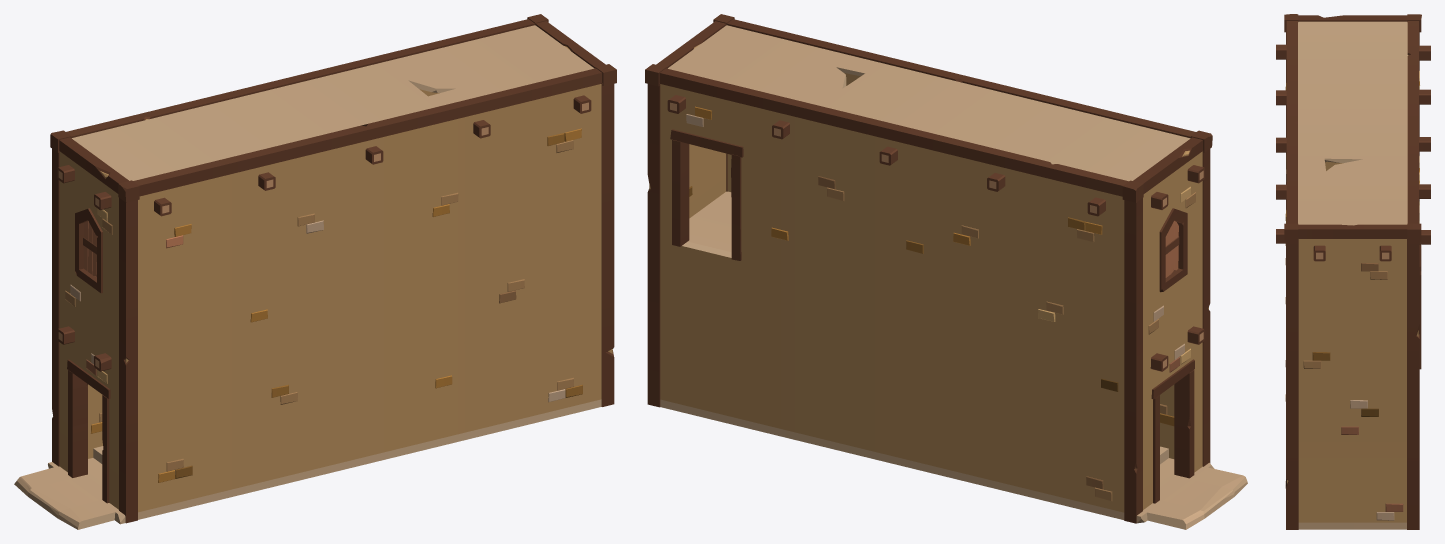
The model's file is shack_tall_stairs_L.glb.
3 renders of one model, left to right at view 1: azimuth 30°, elevation 25°; view 2: azimuth 150°, elevation 25°; view 3: azimuth 270°, elevation 25°, orthographic. The views are drawn at different scales.
Parts seen in each view (by area): view 1: Shack_Tall_Stairs_L-col; view 2: Shack_Tall_Stairs_L-col; view 3: Shack_Tall_Stairs_L-col.
Part boxes in pixels (x1,y1,x2,y2): Shack_Tall_Stairs_L-col: (14, 14, 616, 529); Shack_Tall_Stairs_L-col: (645, 14, 1247, 529); Shack_Tall_Stairs_L-col: (1276, 14, 1430, 529).
Size of the model in its own units: 12.73 by 7.47 by 3.48.
Materials: 1 (1 with a texture image).
